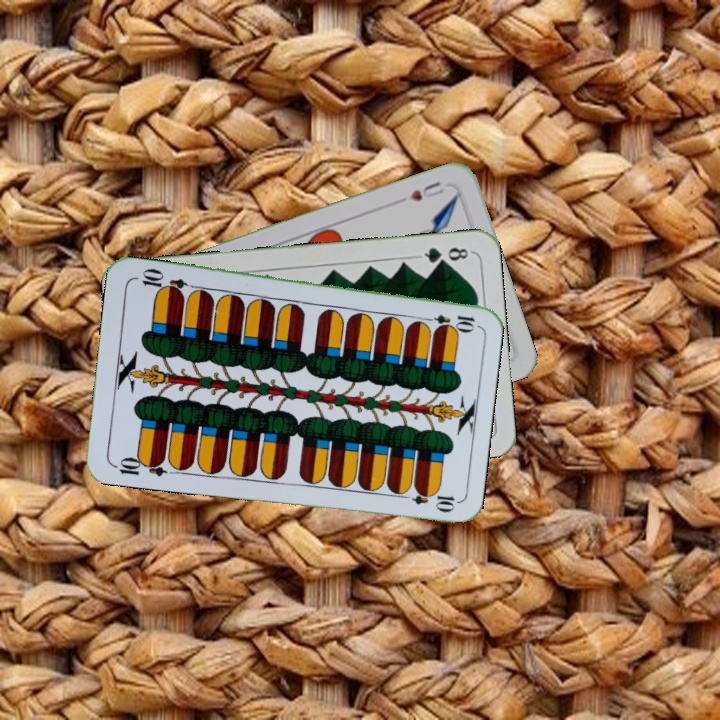E10: (109, 452, 168, 479), (418, 310, 477, 331)
G8: (415, 243, 474, 267)
HU: (405, 177, 449, 204)
